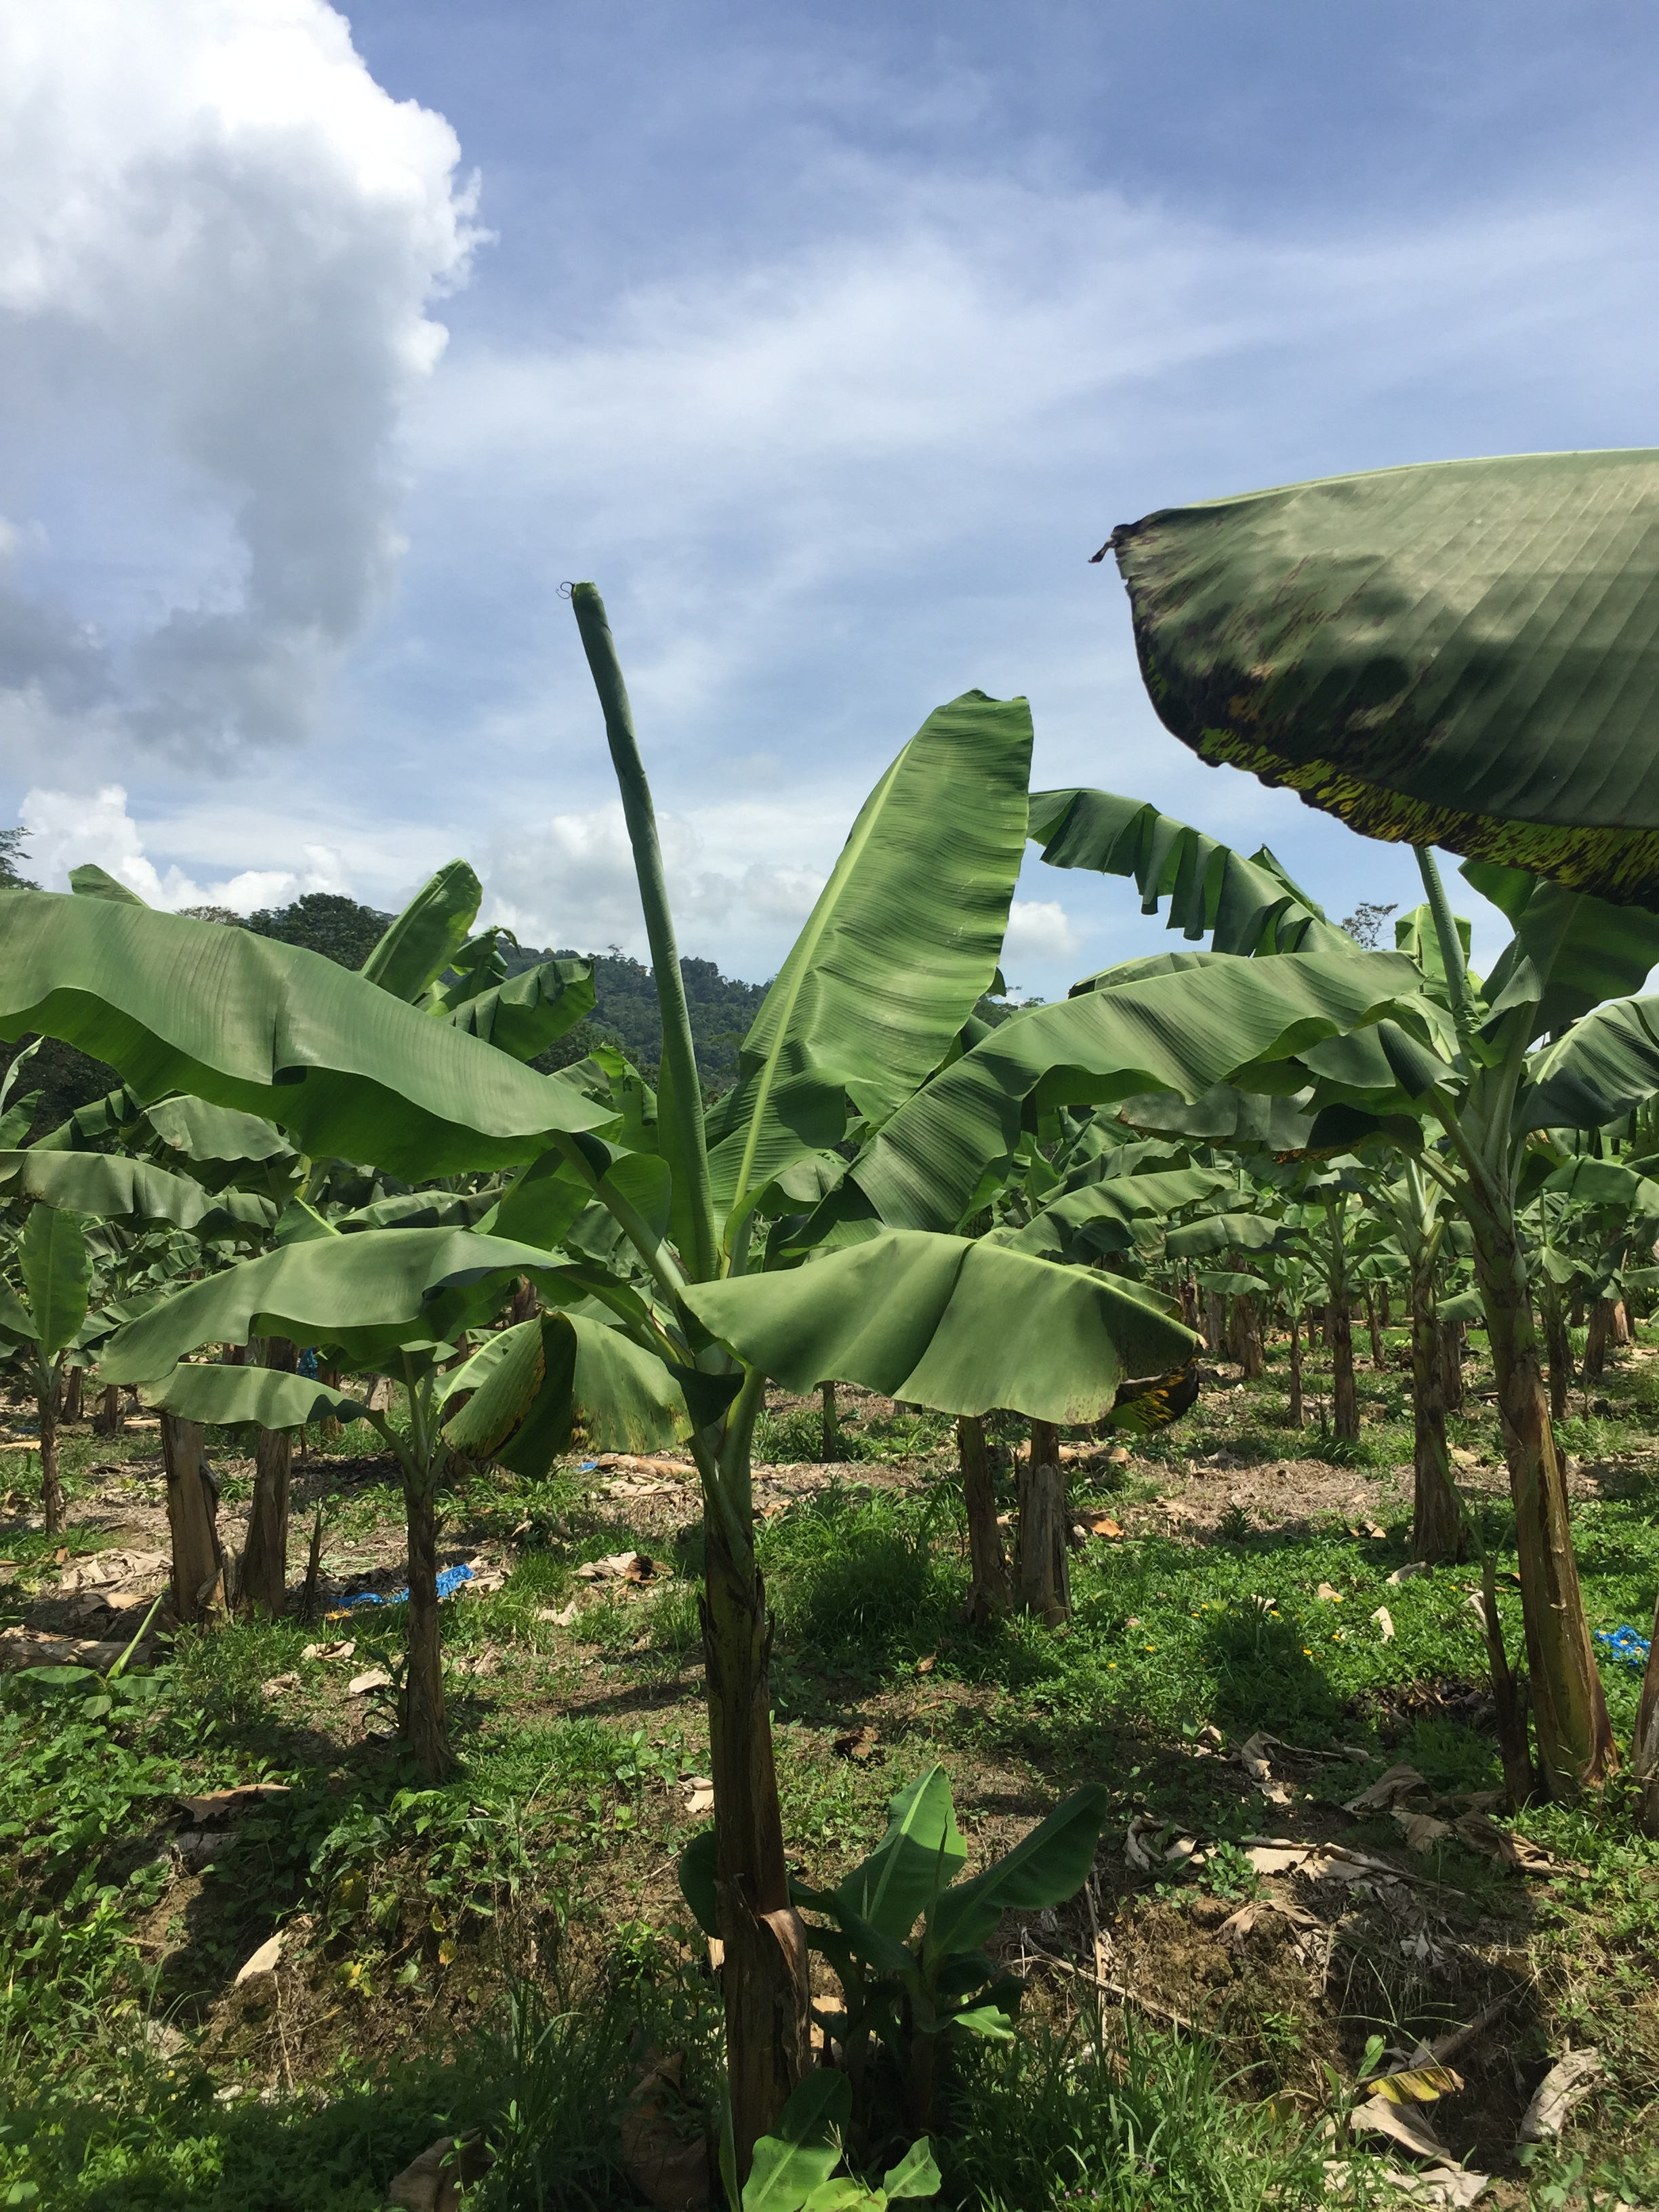candleleafs: (556, 580, 716, 1280)
